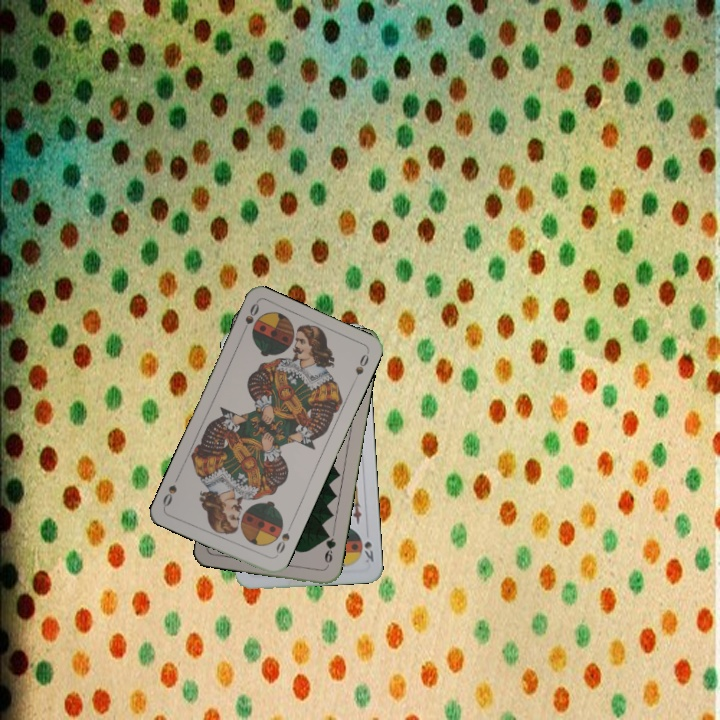G9: (321, 529, 338, 570)
SK: (360, 537, 376, 565)
SO: (238, 299, 262, 338), (271, 521, 294, 559)
